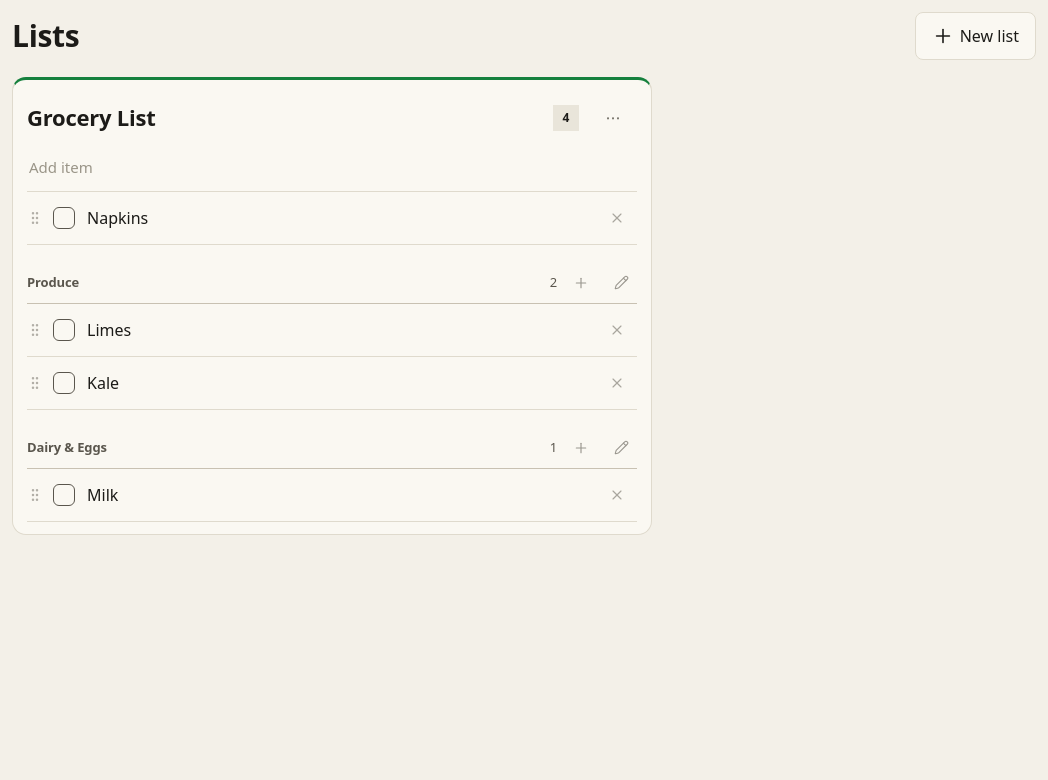
Test case: ListsBoard › press and hold to drag › a quick tap still edits, and moving first is a scroll, not a drag
The image size is (1048, 780).
Press the mouse on the list item "Limes": (332, 330) [27,304,637,356]
Press the mouse on the list item "Limes": (332, 330) [27,304,637,356]
Click the button with aria-label "Edit Limes": (109, 330) [87,304,585,356]
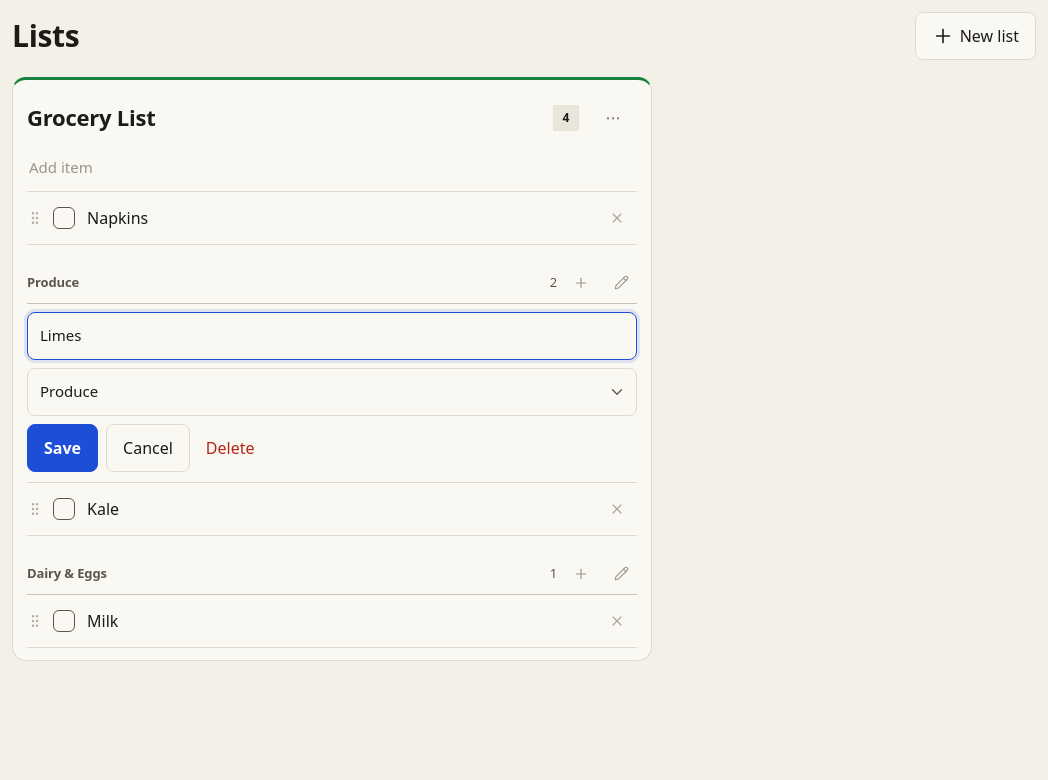
Check: the form named "Edit Limes" is shown, box [27,312,637,472]
